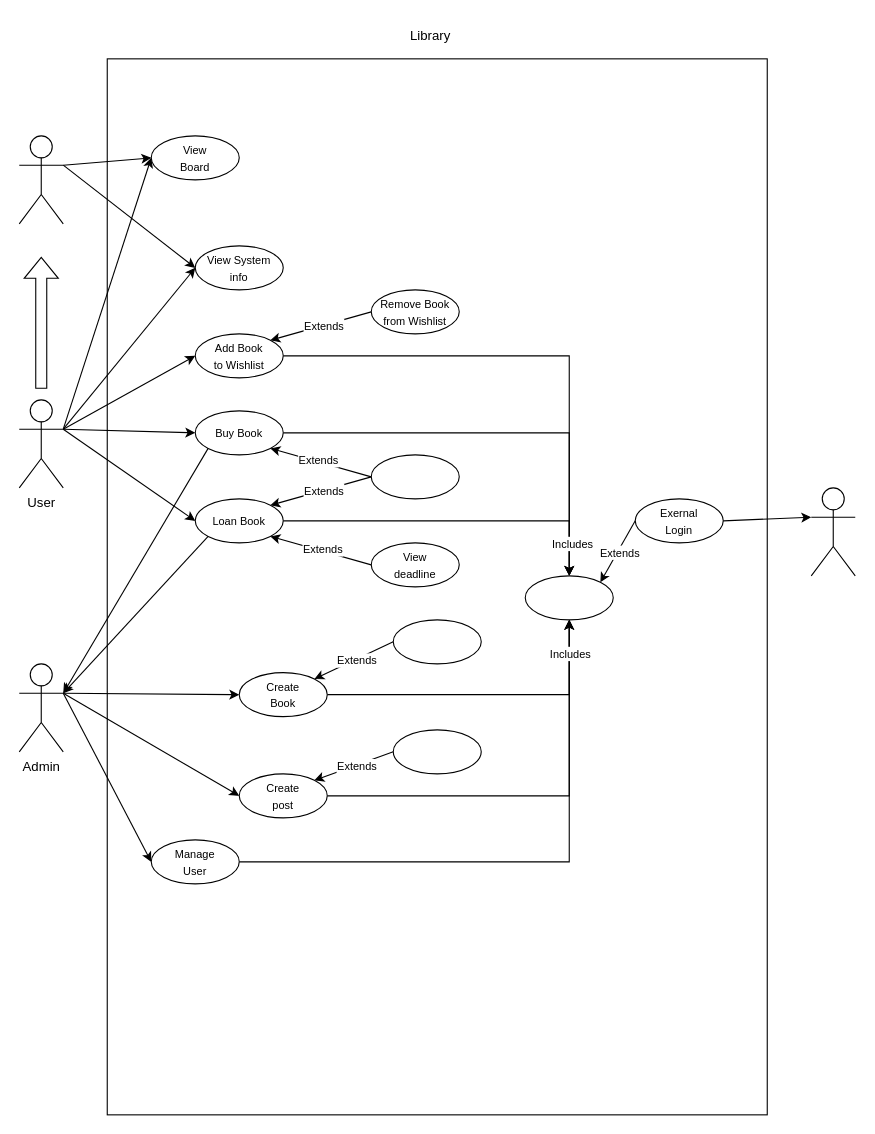
The diagram is 875 pixels wide and 1134 high, and some of its shapes have lost their labels. The shapes that lost their labels are listed below. From the top down, each one's box as (x1, y1, x2, y2) in pixels, then its label:
(18, 135, 63, 224): Guest
(370, 454, 459, 499): Write Review
(810, 487, 855, 576): Google API
(524, 575, 613, 620): Login
(392, 619, 481, 664): Manage Book
(392, 729, 481, 774): Manage post
